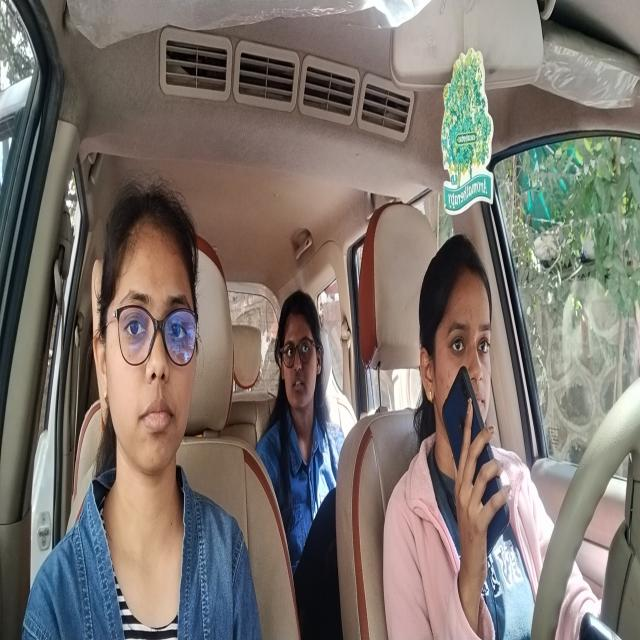mobile: (442, 365, 510, 554)
person: (94, 177, 204, 490), (417, 224, 497, 473), (274, 279, 324, 433)
